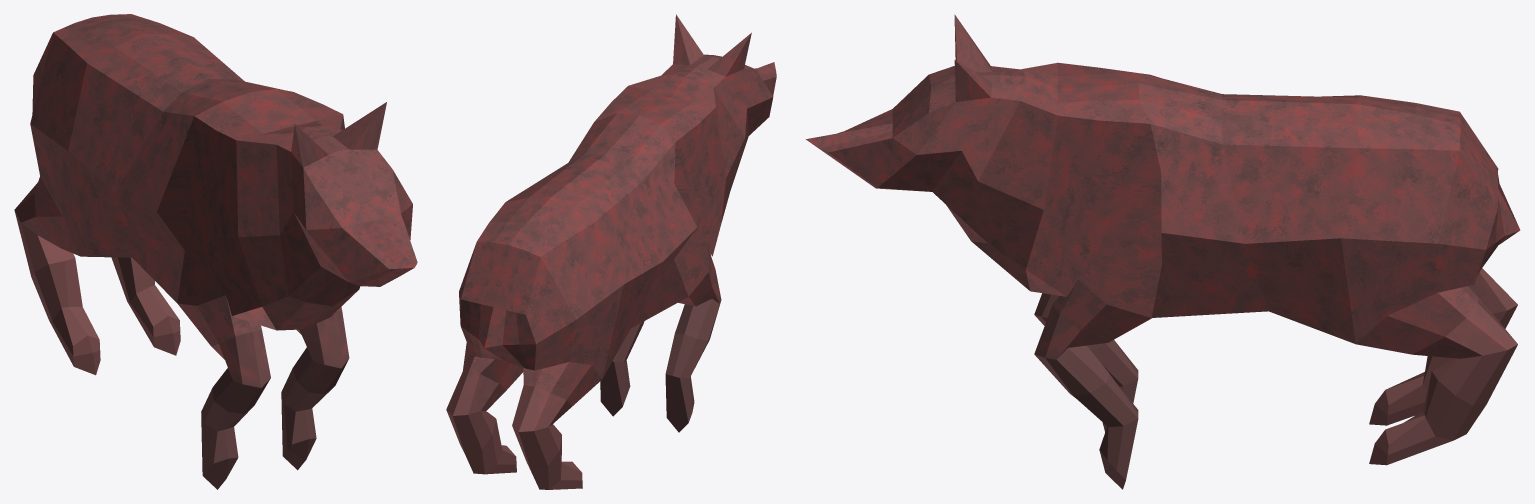
Rendered from piesblend_000028.obj.
3 renders of one model, left to right at view 1: azimuth 30°, elevation 25°; view 2: azimuth 150°, elevation 25°; view 3: azimuth 270°, elevation 25°, orthographic. The views are drawn at different scales.
Parts seen in each view (by area): view 1: Cube; view 2: Cube; view 3: Cube.
Boxes of the visible parts, x1,y1,x2,y2 form: Cube: [14, 14, 417, 489]; Cube: [446, 14, 776, 489]; Cube: [806, 14, 1520, 489].
Size of the model in its own units: 2.56 by 6.4 by 9.56.
1 material, 1 textured.
